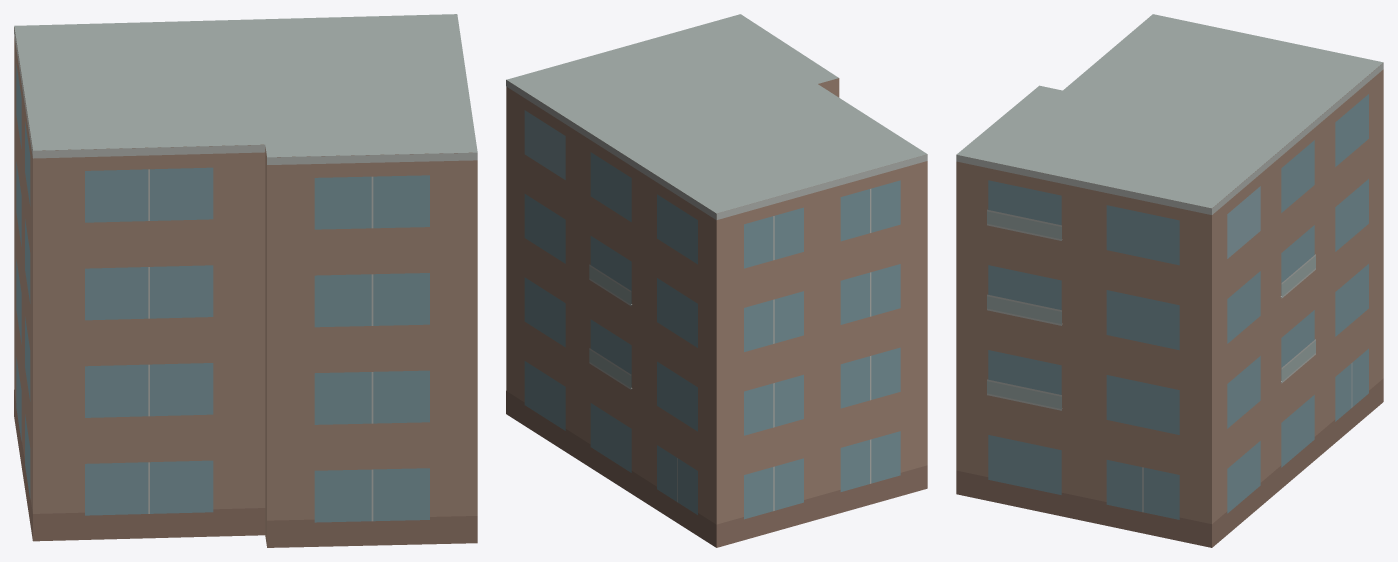
The model's file is survey-upis-32805050.glb.
The picture shows the model from 3 angles, left to right: view 1: azimuth 30°, elevation 25°; view 2: azimuth 150°, elevation 25°; view 3: azimuth 270°, elevation 25°; orthographic projection. The views are drawn at different scales.
Parts seen in each view (by area): view 1: survey-upis-32805050.tmp; view 2: survey-upis-32805050.tmp; view 3: survey-upis-32805050.tmp.
Boxes of the visible parts, left/top/right/bottom form: survey-upis-32805050.tmp: left=14, top=14, right=477, bottom=547; survey-upis-32805050.tmp: left=506, top=14, right=927, bottom=547; survey-upis-32805050.tmp: left=956, top=14, right=1383, bottom=547.
Bounding box in the file's own units: 14.99 × 12.2 × 13.93.
